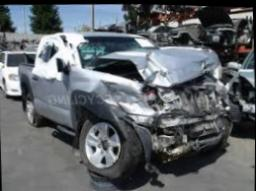Bonnet: (87, 44, 218, 85)
Bumper: (129, 104, 235, 159)
Fender: (73, 70, 122, 117)
Light: (148, 87, 172, 109)
